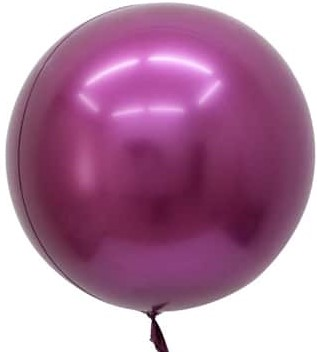Balloon: (5, 3, 315, 312)
